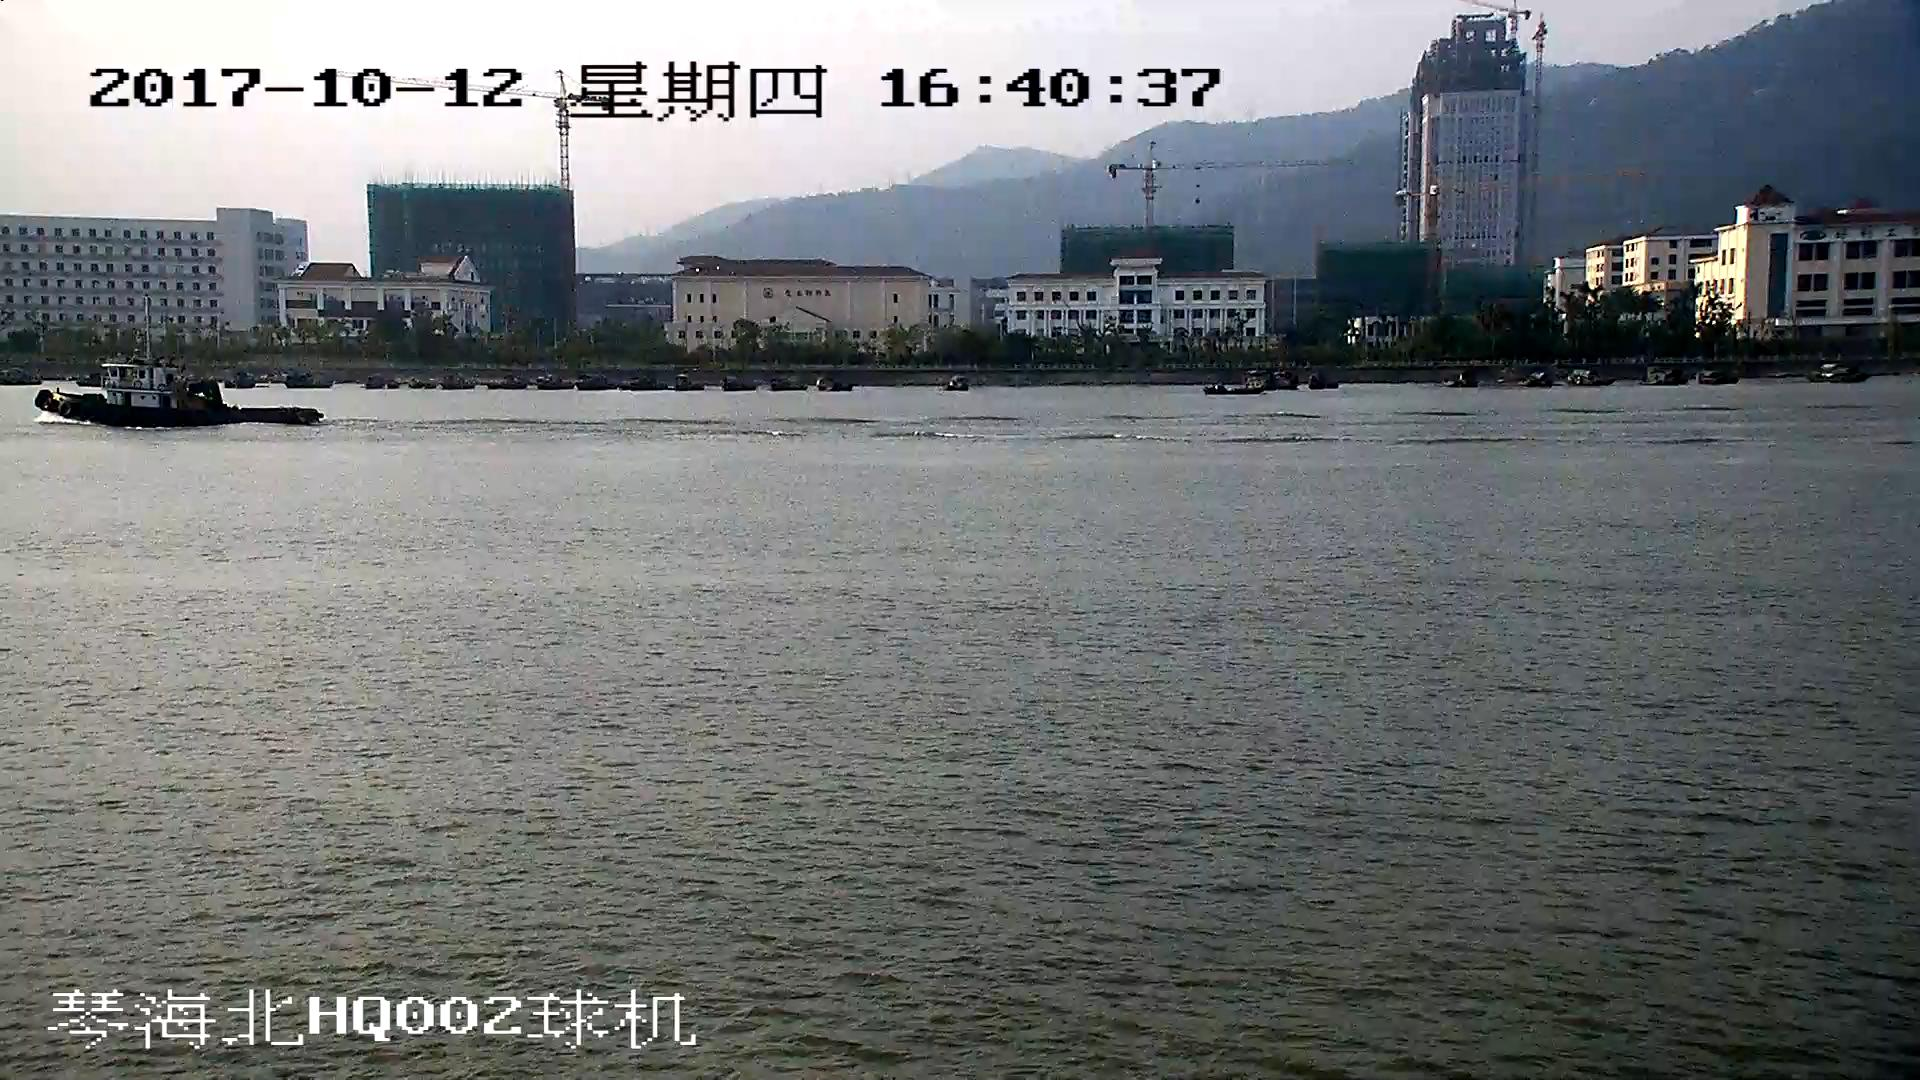passenger ship: (40, 303, 320, 432)
